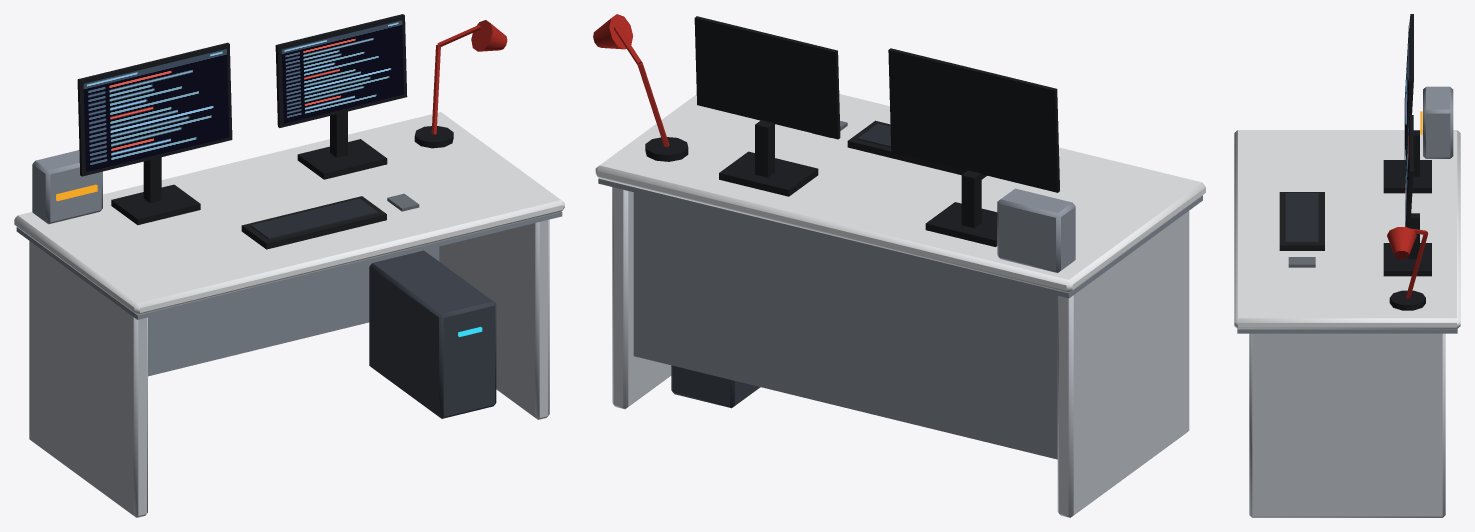
Rendered from desk_workstation.glb.
The picture shows the model from 3 angles, left to right: view 1: azimuth 30°, elevation 25°; view 2: azimuth 150°, elevation 25°; view 3: azimuth 270°, elevation 25°; orthographic projection. The views are drawn at different scales.
Parts seen in each view (by area): view 1: desk_workstation; view 2: desk_workstation; view 3: desk_workstation.
Part boxes in pixels (box(x1,y1,x2,y2)): desk_workstation: box(14, 14, 564, 517); desk_workstation: box(593, 14, 1205, 517); desk_workstation: box(1234, 14, 1460, 517).
Bounding box in the file's own units: 1.61 × 1.22 × 0.75.
12 materials, 1 textured.
